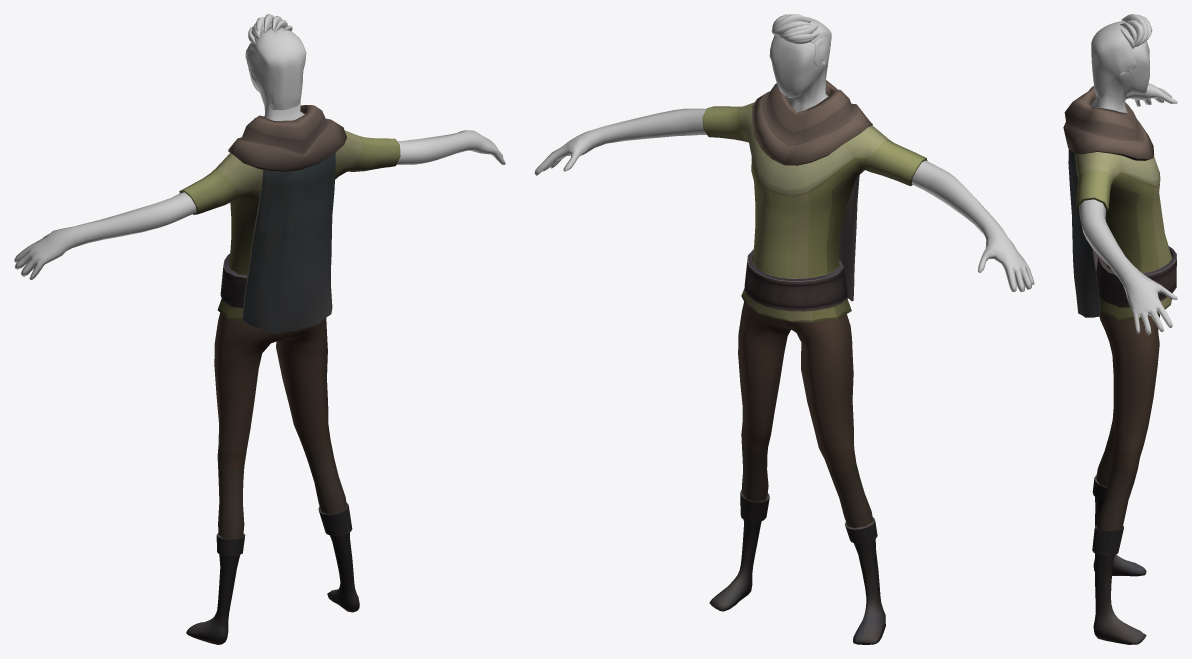
File: main_char(new tex).fbx
3 views of the same model, side by side, from view 1: azimuth 30°, elevation 25°; view 2: azimuth 150°, elevation 25°; view 3: azimuth 270°, elevation 25° (orthographic). The views are drawn at different scales.
Parts seen in each view (by area): view 1: clothing, body; view 2: clothing, body; view 3: clothing, body.
Boxes of the visible parts, bbox=[...] form: clothing: bbox=[179, 105, 400, 644]; body: bbox=[14, 14, 505, 279]; clothing: bbox=[702, 80, 927, 644]; body: bbox=[534, 14, 1034, 292]; clothing: bbox=[1063, 86, 1176, 644]; body: bbox=[1079, 14, 1177, 334].
Bounding box in the file's own units: 180 × 37.55 × 215.
